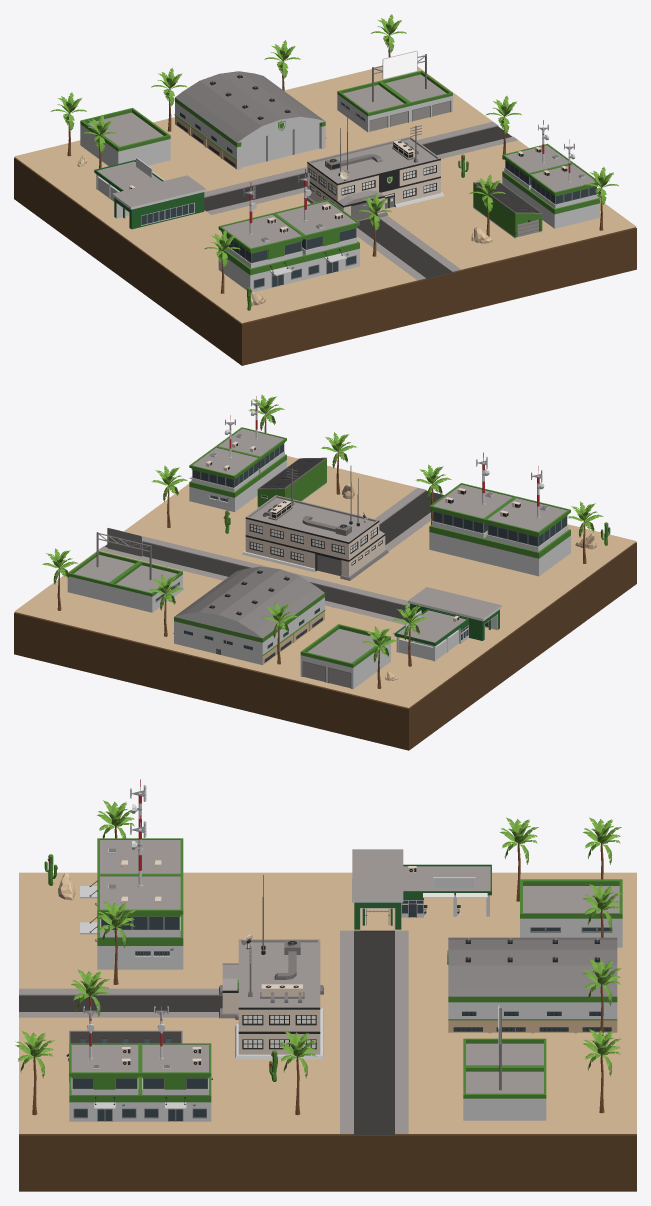
Rendered from POICompany.glb.
The picture shows the model from 3 angles, top to bottom: view 1: azimuth 30°, elevation 25°; view 2: azimuth 150°, elevation 25°; view 3: azimuth 270°, elevation 25°; orthographic projection. The views are drawn at different scales.
Parts seen in each view (by area): view 1: Stage, tile-road-straight-nb.003, tile-road-straight-nb.001, airport-hangar, military-headquarters.001, building-policestation.001, building-carwash, building-policestation.003, building-policestation.006, building-policestation-garage.003, building-policestation-garage.005, industry-storage (+10 smaller); view 2: Stage, tile-road-straight-nb.001, tile-road-straight-nb.003, airport-hangar, military-headquarters.001, building-policestation.001, building-carwash, building-policestation.003, building-policestation-garage.003, building-policestation.005, building-policestation-garage.005, building-policestation.006 (+12 smaller); view 3: tile-road-straight-nb.001, tile-road-straight-nb.003, Stage, airport-hangar, military-headquarters.001, building-policestation.003, building-carwash, building-policestation.005, building-policestation.006, building-policestation-garage.003, building-policestation-garage.001, building-policestation.001 (+12 smaller).
Part boxes in pixels (bbox=[...]): Stage: bbox=[14, 157, 636, 365]; tile-road-straight-nb.003: bbox=[14, 140, 636, 323]; tile-road-straight-nb.001: bbox=[148, 66, 528, 224]; airport-hangar: bbox=[174, 71, 326, 169]; military-headquarters.001: bbox=[304, 115, 444, 221]; building-policestation.001: bbox=[218, 182, 305, 291]; building-carwash: bbox=[94, 157, 206, 229]; building-policestation.003: bbox=[274, 169, 359, 279]; building-policestation.006: bbox=[528, 139, 599, 228]; building-policestation-garage.003: bbox=[80, 108, 170, 165]; building-policestation-garage.005: bbox=[337, 81, 410, 132]; industry-storage: bbox=[473, 182, 542, 238]; Stage: bbox=[14, 542, 636, 750]; tile-road-straight-nb.001: bbox=[14, 500, 472, 686]; tile-road-straight-nb.003: bbox=[166, 456, 636, 707]; airport-hangar: bbox=[173, 566, 325, 664]; military-headquarters.001: bbox=[242, 465, 388, 580]; building-policestation.001: bbox=[484, 466, 570, 576]; building-carwash: bbox=[392, 587, 501, 661]; building-policestation.003: bbox=[429, 452, 515, 562]; building-policestation-garage.003: bbox=[300, 624, 390, 688]; building-policestation.005: bbox=[189, 415, 260, 512]; building-policestation-garage.005: bbox=[110, 561, 182, 612]; building-policestation.006: bbox=[216, 396, 286, 485]; tile-road-straight-nb.001: bbox=[225, 930, 636, 1134]; tile-road-straight-nb.003: bbox=[19, 872, 636, 1133]; Stage: bbox=[19, 931, 636, 1191]; airport-hangar: bbox=[448, 937, 617, 1033]; military-headquarters.001: bbox=[218, 875, 323, 1059]; building-policestation.003: bbox=[80, 815, 183, 969]; building-carwash: bbox=[352, 849, 491, 931]; building-policestation.005: bbox=[140, 1001, 212, 1121]; building-policestation.006: bbox=[69, 1000, 139, 1121]; building-policestation-garage.003: bbox=[520, 879, 622, 947]; building-policestation-garage.001: bbox=[463, 1067, 546, 1120]; building-policestation.001: bbox=[80, 779, 183, 905].
Bounding box in the file's own units: 15.23 × 5.07 × 15.35.
